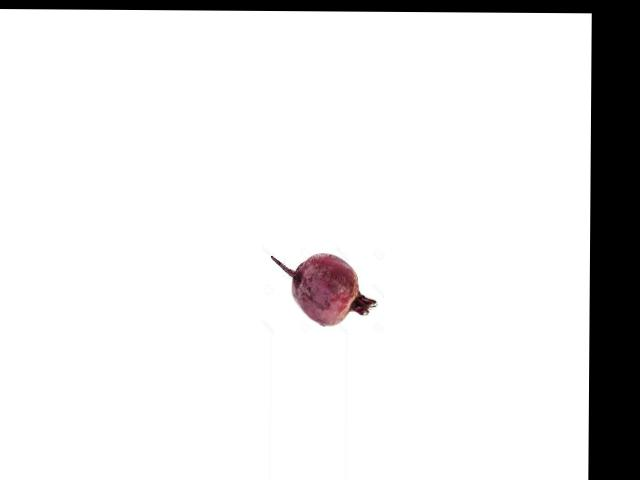beet: (271, 253, 377, 325)
